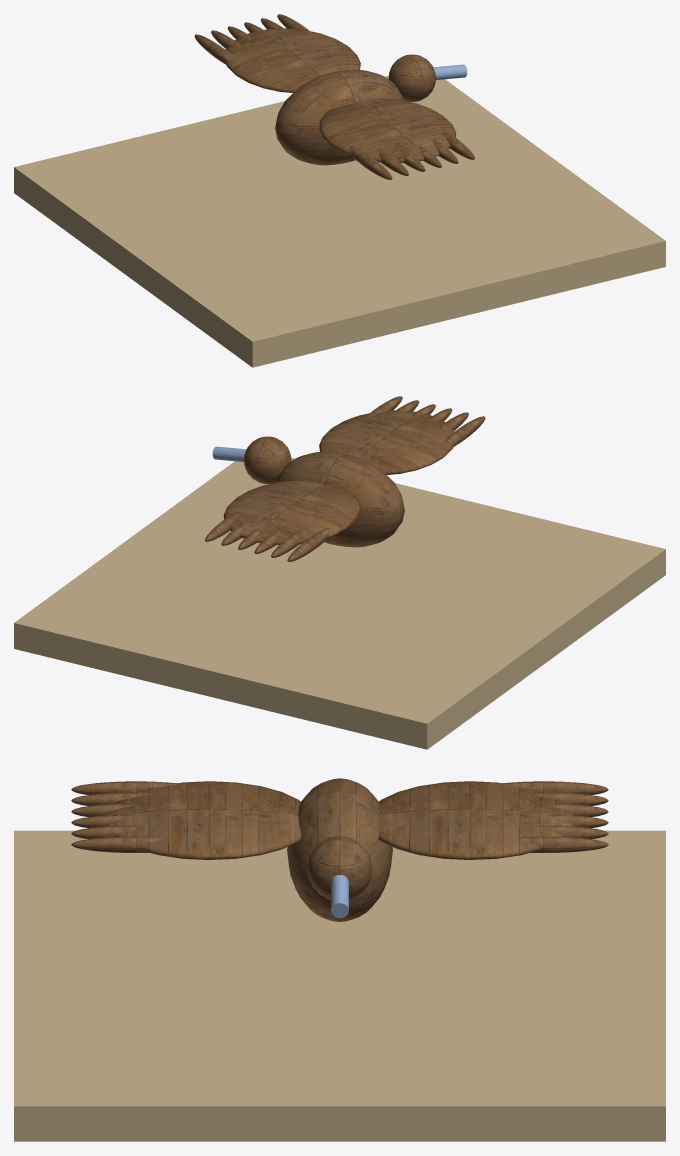
File: aguia.glb
3 renders of one model, top to bottom at view 1: azimuth 30°, elevation 25°; view 2: azimuth 150°, elevation 25°; view 3: azimuth 270°, elevation 25°, orthographic. The views are drawn at different scales.
Visible parts, largest first — view 1: Base ilustrativa, Asa.001, Corpo, Asa, Cabeça, Pena estilizada.006; view 2: Base ilustrativa, Asa, Corpo, Asa.001, Cabeça, Pena estilizada; view 3: Base ilustrativa, Asa, Asa.001, Corpo, Cabeça, Pena estilizada.005, Pena estilizada.011, Pena estilizada, Pena estilizada.006, Bico, Pena estilizada.001, Pena estilizada.007 (+2 smaller).
Part boxes in pixels (bbox=[...]): Base ilustrativa: bbox=[14, 76, 665, 367]; Asa.001: bbox=[319, 98, 456, 162]; Corpo: bbox=[275, 69, 403, 165]; Asa: bbox=[225, 28, 360, 92]; Cabeça: bbox=[388, 54, 435, 101]; Pena estilizada.006: bbox=[349, 146, 392, 179]; Base ilustrativa: bbox=[14, 458, 665, 749]; Asa: bbox=[223, 480, 360, 544]; Corpo: bbox=[276, 451, 404, 547]; Asa.001: bbox=[319, 410, 454, 474]; Cabeça: bbox=[244, 436, 291, 483]; Pena estilizada: bbox=[287, 528, 330, 561]; Base ilustrativa: bbox=[14, 830, 665, 1141]; Asa: bbox=[378, 781, 573, 859]; Asa.001: bbox=[106, 781, 301, 859]; Corpo: bbox=[287, 778, 392, 921]; Cabeça: bbox=[307, 836, 372, 899]; Pena estilizada.005: bbox=[517, 836, 608, 852]; Pena estilizada.011: bbox=[71, 836, 162, 852]; Pena estilizada: bbox=[499, 781, 608, 794]; Pena estilizada.006: bbox=[71, 781, 180, 794]; Bico: bbox=[331, 875, 348, 918]; Pena estilizada.001: bbox=[527, 792, 608, 806]; Pena estilizada.007: bbox=[71, 792, 152, 806].
Bounding box in the file's own units: 4 × 1.44 × 4.
Materials: 3 (2 with a texture image).
